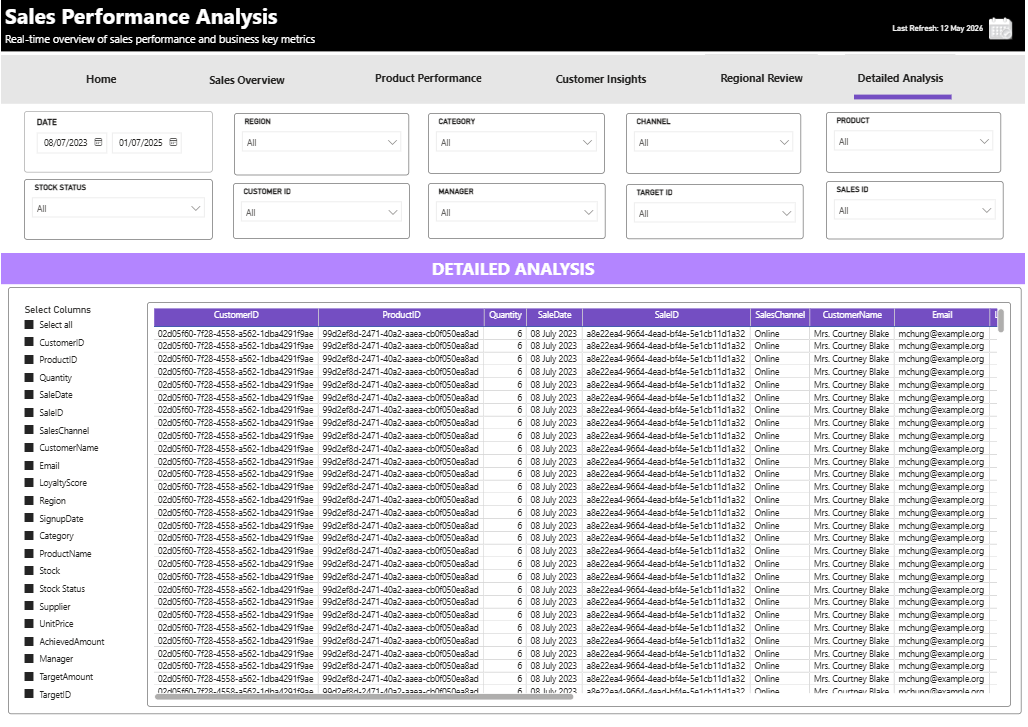

The page's visual inventory and layout, read from the dashboard file:
{"tool":"powerbi","page":{"name":"Detailed Analysis","canvas":[1280,900],"ordinal":5},"visuals":[{"type":"textbox","box":[8.6,362.9,1267.1,534.3],"z":0},{"type":"textbox","box":[0,0,1280.2,68.2],"z":1000},{"type":"slicer","fields":{"Values":["Merge1.SaleDate"]},"box":[28.6,142.9,236,77.5],"z":2000},{"type":"slicer","fields":{"Values":["Products.Category"]},"box":[534.1,145.4,220.5,76.4],"z":3000},{"type":"textbox","box":[0,320.1,1280.2,39.3],"z":4000},{"type":"textbox","box":[0,39,585,36],"z":5000},{"type":"image","box":[1229.8,19.9,38.8,37.8],"z":6000},{"type":"slicer","fields":{"Values":["Regional Target.Region"]},"box":[291.4,145.4,219.3,77.6],"z":7000},{"type":"slicer","fields":{"Values":["Merge1.SalesChannel"]},"box":[781.7,145.4,219.3,76.4],"z":8000},{"type":"slicer","fields":{"Values":["Products.ProductName"]},"box":[1031.8,144.2,219.3,76.4],"z":9000},{"type":"textbox","box":[0,72,1398.9,61.1],"z":10000},{"type":"shape","title":"Detailed Creative Line","box":[236.7,110.3,146.6,35.8],"z":11000},{"type":"actionButton","title":"Detailed Creative Button","box":[219.3,74.5,177.1,57.2],"z":12000},{"type":"actionButton","title":"Detailed Creative Button","box":[1055,71.2,138.5,58.7],"z":13000},{"type":"shape","title":"Detailed Creative Line","box":[1066,105,122,40],"z":14000},{"type":"shape","title":"Detailed Creative Line","box":[681.2,109.1,144.4,36.7],"z":15000},{"type":"actionButton","title":"Detailed Creative Button","box":[664.6,72.4,170,58.9],"z":16000},{"type":"shape","title":"Detailed Creative Line","box":[890.8,106.6,122,38.2],"z":17000},{"type":"actionButton","title":"Detailed Creative Button","box":[879.9,71.2,141.4,59.6],"z":18000},{"type":"shape","title":"Detailed Creative Line","box":[449.8,105.4,170,37],"z":19000},{"type":"actionButton","title":"Detailed Creative Button","box":[442.3,72.3,183.3,56.7],"z":20000},{"type":"shape","title":"Detailed Creative Line","box":[76.7,109.1,105.9,35.6],"z":21000},{"type":"actionButton","title":"Detailed Creative Button","box":[61.5,72.1,127.9,58.7],"z":22000},{"type":"slicer","fields":{"Values":["DETAILED ANALYSIS.DETAILED ANALYSIS"]},"box":[15.7,378.6,167.1,508.6],"z":23000},{"type":"tableEx","fields":{"Values":["Sales.CustomerID","Sales.ProductID","Sales.Quantity","Sales.SaleDate","Sales.SaleID","Sales.SalesChannel","Customers.CustomerName","Customers.Email","Customers.LoyaltyScore","Customers.Region","Customers.SignupDate","Products.Category"]},"box":[182.9,381.4,1080,505.7],"z":24000},{"type":"slicer","fields":{"Values":["Products.Stock Status"]},"box":[28.6,227.1,235.7,75.7],"z":25000},{"type":"slicer","fields":{"Values":["Customers.CustomerID"]},"box":[290,233,221,70],"z":26000},{"type":"slicer","fields":{"Values":["Regional Target.Manager"]},"box":[534,233,222,70],"z":27000},{"type":"slicer","fields":{"Values":["Regional Target.TargetID"]},"box":[781,234,222,69],"z":28000},{"type":"slicer","fields":{"Values":["Sales.SaleID"]},"box":[1031,230,222,73],"z":29000},{"type":"card","fields":{"Values":["Merge1.Last Refresh Date"]},"box":[1095.6,27.2,151.8,27.2],"z":30000}]}

Visuals, with their boxes in screenshot pixels (x1, y1, x2, y2), scaled from the page's 1280x900 canvas onto the 1028x727 screenshot:
textbox: {"x1": 7, "y1": 293, "x2": 1025, "y2": 725}
textbox: {"x1": 0, "y1": 0, "x2": 1027, "y2": 55}
slicer - Merge1.SaleDate: {"x1": 23, "y1": 115, "x2": 213, "y2": 178}
slicer - Products.Category: {"x1": 429, "y1": 117, "x2": 606, "y2": 179}
textbox: {"x1": 0, "y1": 259, "x2": 1027, "y2": 290}
textbox: {"x1": 0, "y1": 32, "x2": 470, "y2": 61}
image: {"x1": 988, "y1": 16, "x2": 1019, "y2": 47}
slicer - Regional Target.Region: {"x1": 234, "y1": 117, "x2": 410, "y2": 180}
slicer - Merge1.SalesChannel: {"x1": 628, "y1": 117, "x2": 804, "y2": 179}
slicer - Products.ProductName: {"x1": 829, "y1": 116, "x2": 1005, "y2": 178}
textbox: {"x1": 0, "y1": 58, "x2": 1027, "y2": 108}
"Detailed Creative Line" shape: {"x1": 190, "y1": 89, "x2": 308, "y2": 118}
"Detailed Creative Button" actionButton: {"x1": 176, "y1": 60, "x2": 318, "y2": 106}
"Detailed Creative Button" actionButton: {"x1": 847, "y1": 58, "x2": 959, "y2": 105}
"Detailed Creative Line" shape: {"x1": 856, "y1": 85, "x2": 954, "y2": 117}
"Detailed Creative Line" shape: {"x1": 547, "y1": 88, "x2": 663, "y2": 118}
"Detailed Creative Button" actionButton: {"x1": 534, "y1": 58, "x2": 670, "y2": 106}
"Detailed Creative Line" shape: {"x1": 715, "y1": 86, "x2": 813, "y2": 117}
"Detailed Creative Button" actionButton: {"x1": 707, "y1": 58, "x2": 820, "y2": 106}
"Detailed Creative Line" shape: {"x1": 361, "y1": 85, "x2": 498, "y2": 115}
"Detailed Creative Button" actionButton: {"x1": 355, "y1": 58, "x2": 502, "y2": 104}
"Detailed Creative Line" shape: {"x1": 62, "y1": 88, "x2": 147, "y2": 117}
"Detailed Creative Button" actionButton: {"x1": 49, "y1": 58, "x2": 152, "y2": 106}
slicer - DETAILED ANALYSIS.DETAILED ANALYSIS: {"x1": 13, "y1": 306, "x2": 147, "y2": 717}
tableEx - Sales.CustomerID x Sales.ProductID: {"x1": 147, "y1": 308, "x2": 1014, "y2": 717}
slicer - Products.Stock Status: {"x1": 23, "y1": 183, "x2": 212, "y2": 245}
slicer - Customers.CustomerID: {"x1": 233, "y1": 188, "x2": 410, "y2": 245}
slicer - Regional Target.Manager: {"x1": 429, "y1": 188, "x2": 607, "y2": 245}
slicer - Regional Target.TargetID: {"x1": 627, "y1": 189, "x2": 806, "y2": 245}
slicer - Sales.SaleID: {"x1": 828, "y1": 186, "x2": 1006, "y2": 245}
card - Merge1.Last Refresh Date: {"x1": 880, "y1": 22, "x2": 1002, "y2": 44}
